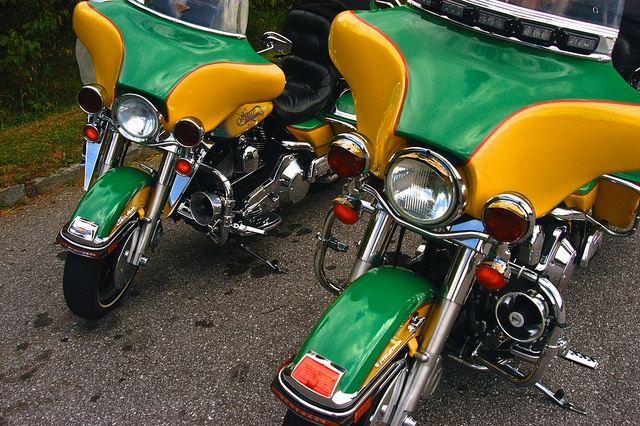non-vehicle: (271, 0, 639, 424), (56, 1, 360, 320)
